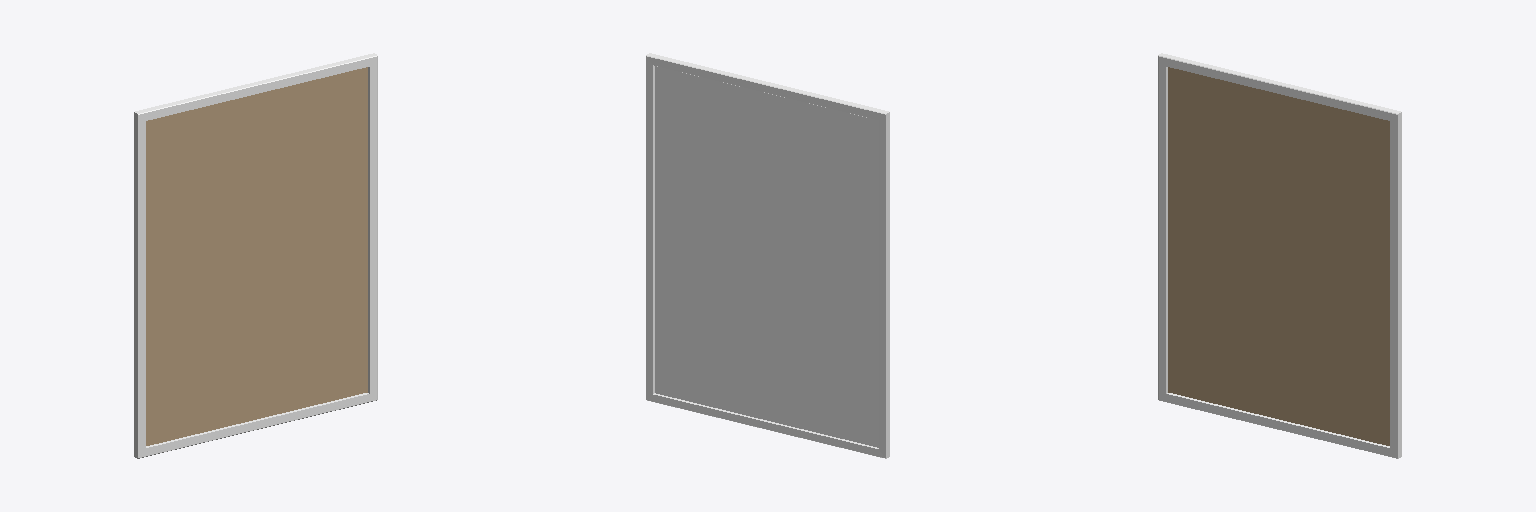
3 renders of one model, left to right at view 1: azimuth 30°, elevation 25°; view 2: azimuth 150°, elevation 25°; view 3: azimuth 330°, elevation 25°, orthographic.
Visible parts, largest first — view 1: B0.obj; view 2: B0.obj; view 3: B0.obj.
Boxes of the visible parts, <box> form: B0.obj: <box>134,53,377,458</box>; B0.obj: <box>646,53,889,458</box>; B0.obj: <box>1158,53,1401,458</box>.
Size of the model in its own units: 1.08 by 1.48 by 0.0298.